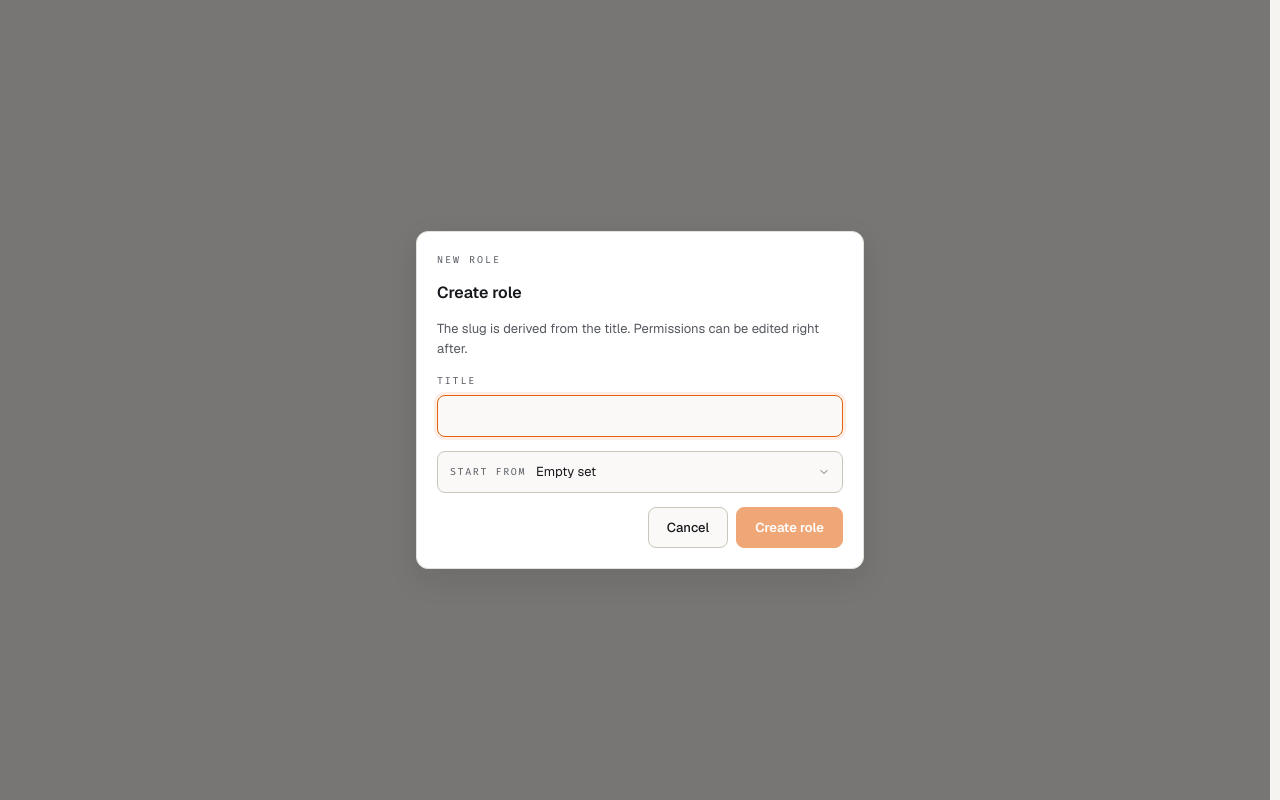
it: CreateRoleDialog › keeps Create role disabled until a title is entered
Check: the button "Create role" is disabled, box 736,507 -> 843,548
In the field labelled "Title": coordinates (640, 416) 437,395 -> 843,437, type "Inspector"
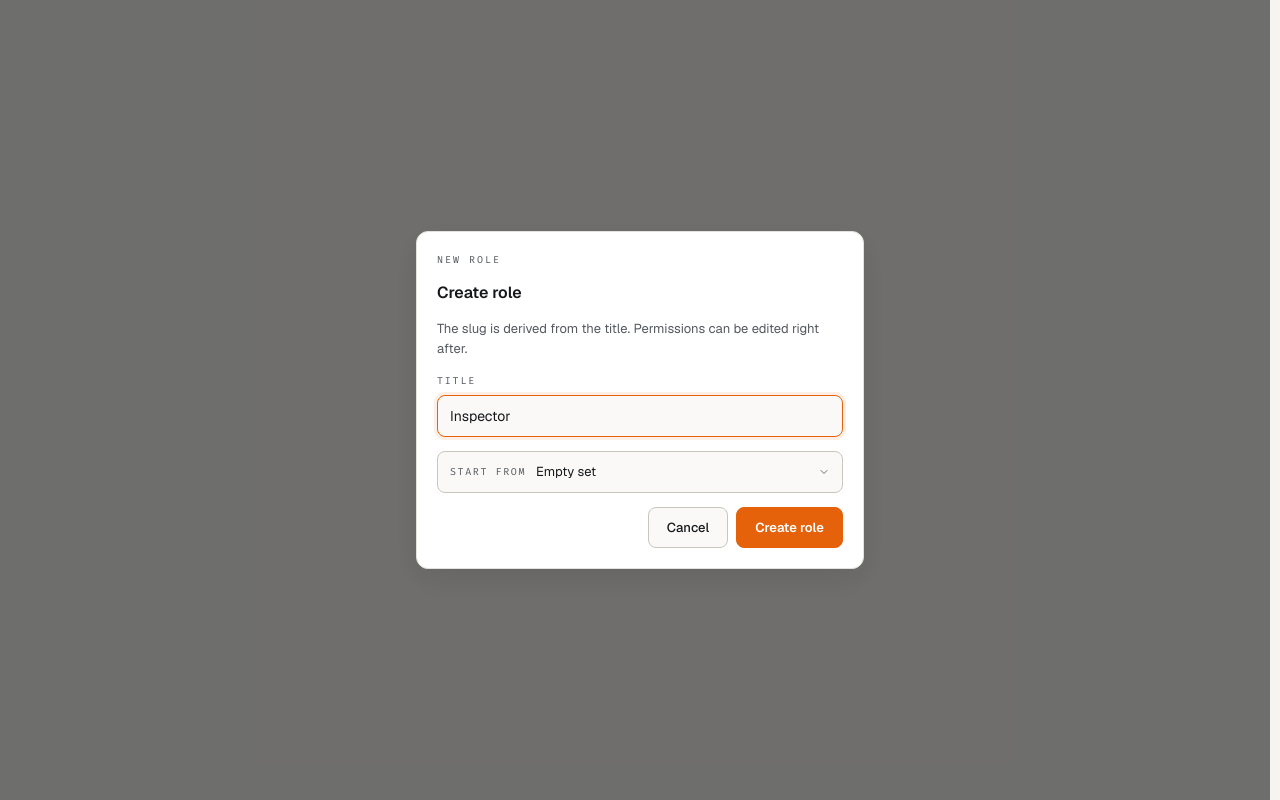
Check: the button "Create role" is enabled, box 736,507 -> 843,548
